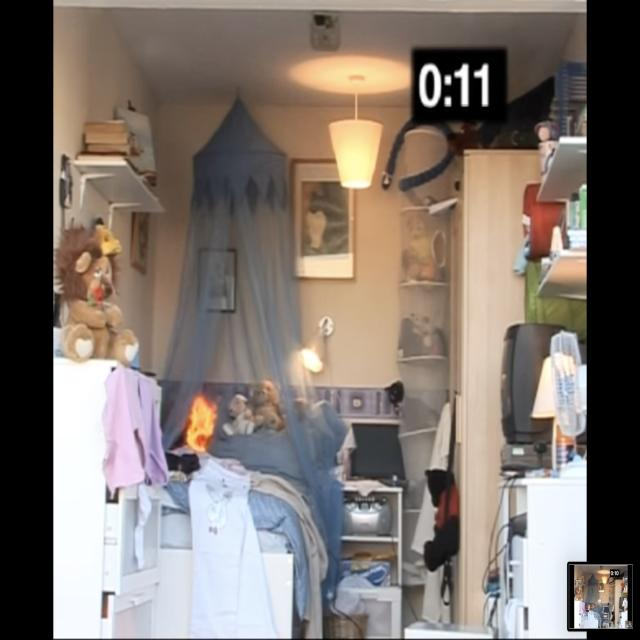Fogo: (169, 383, 238, 469)
